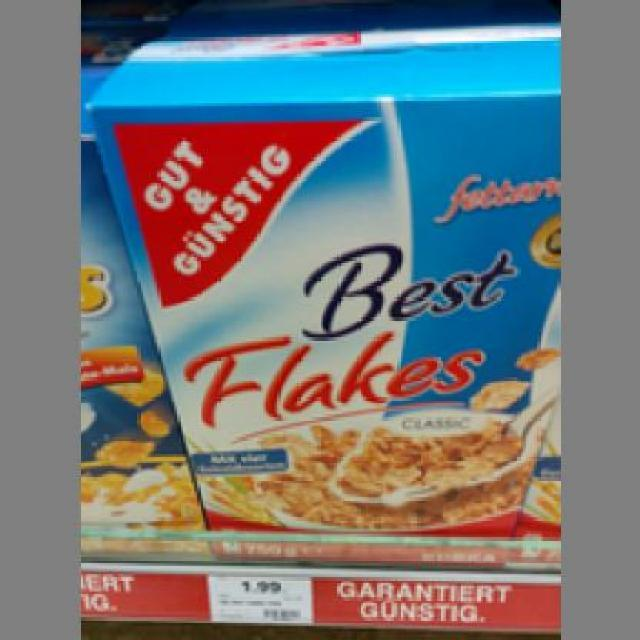Cereal: (86, 31, 554, 558)
